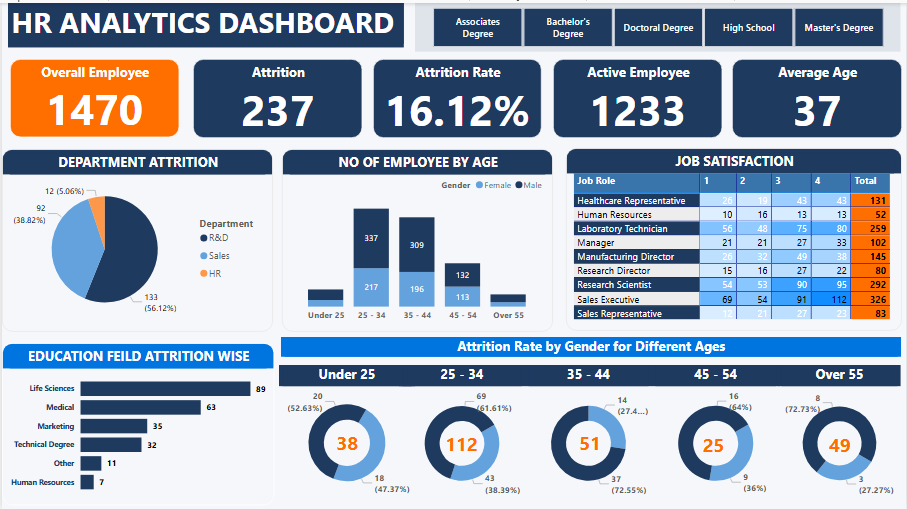

Layout of this report page (visuals, bound fields, positions):
{"tool":"powerbi","page":{"name":"Page 1","canvas":[1280,720],"ordinal":0},"visuals":[{"type":"donutChart","title":"Under 25","fields":{"Y":["Sum(HR data.Attrition Count)"],"Category":["HR data.Gender"],"Series":["HR data.CF_age band"]},"box":[392.5,513.4,192.5,195.5],"z":0},{"type":"card","fields":{"Values":["Sum(HR data.Attrition Count)"]},"box":[453.7,596.7,71.6,55.2],"z":1000},{"type":"card","title":"Overall Employee","fields":{"Values":["Sum(HR data.Employee Count)"]},"box":[11.3,79.8,239.5,110.6],"z":2000},{"type":"card","title":"Attrition","fields":{"Values":["Sum(HR data.Attrition Count)"]},"box":[270.1,79.1,240.3,111.9],"z":3000},{"type":"card","title":"Attrition Rate","fields":{"Values":["HR data.Attrition rate"]},"box":[525.4,79.1,238.8,111.9],"z":4000},{"type":"card","title":"Active Employee","fields":{"Values":["HR data.Active Employee"]},"box":[780.6,79.1,240.3,111.9],"z":5000},{"type":"card","title":"Average Age","fields":{"Values":["Avg(HR data.Age)"]},"box":[1034.6,79.4,240.9,112],"z":6000},{"type":"pieChart","title":"DEPARTMENT ATTRITION","fields":{"Category":["HR data.Department"],"Y":["Sum(HR data.Attrition Count)"]},"box":[0,206.4,384.1,259.4],"z":7000},{"type":"columnChart","title":"NO OF EMPLOYEE BY AGE","fields":{"Category":["HR data.CF_age band"],"Y":["Sum(HR data.Employee Count)"],"Series":["HR data.Gender"]},"box":[396.9,206.9,384.1,259.4],"z":8000},{"type":"pivotTable","title":"JOB SATISFACTION","fields":{"Rows":["HR data.Job Role"],"Columns":["HR data.Job Satisfaction"],"Values":["Sum(HR data.Employee Count)"]},"box":[799.4,205.5,476.2,259.4],"z":9000},{"type":"barChart","title":"EDUCATION FEILD ATTRITION WISE","fields":{"Category":["HR data.Education Field"],"Y":["Sum(HR data.Attrition Count)"]},"box":[0,481.9,385.5,229.6],"z":10000},{"type":"textbox","title":"Attrition Rate by Gender for Different Ages","box":[395.5,473.1,879.1,28.4],"z":11000},{"type":"donutChart","title":"25 - 34","fields":{"Y":["Sum(HR data.Attrition Count)"],"Category":["HR data.Gender"],"Series":["HR data.CF_age band"]},"box":[562.7,513.3,178.6,197],"z":12000},{"type":"donutChart","title":"35 - 44","fields":{"Y":["Sum(HR data.Attrition Count)"],"Category":["HR data.Gender"],"Series":["HR data.CF_age band"]},"box":[741.3,513.3,180,197],"z":13000},{"type":"donutChart","title":"45 - 54","fields":{"Y":["Sum(HR data.Attrition Count)"],"Category":["HR data.Gender"],"Series":["HR data.CF_age band"]},"box":[920.9,513.3,180.6,197],"z":14000},{"type":"donutChart","title":"Over 55","fields":{"Y":["Sum(HR data.Attrition Count)","select"],"Category":["HR data.Gender"],"Series":["HR data.CF_age band"]},"box":[1099.8,513.3,174.3,197],"z":15000},{"type":"card","fields":{"Values":["Sum(HR data.Attrition Count)"]},"box":[614.8,597.5,72.2,53.8],"z":16000},{"type":"card","fields":{"Values":["Sum(HR data.Attrition Count)"]},"box":[796,597.4,74,54],"z":17000},{"type":"card","fields":{"Values":["Sum(HR data.Attrition Count)"]},"box":[970.9,599.5,75.1,53.9],"z":18000},{"type":"card","fields":{"Values":["Sum(HR data.Attrition Count)"]},"box":[1150.7,600,73.1,53.7],"z":19000},{"type":"textbox","title":"HR ANALYTICS DASHBOARD","box":[9,0,561.2,62.7],"z":20000},{"type":"slicer","fields":{"Values":["HR data.Education"]},"box":[585.1,0,688.1,68.7],"z":21000}]}

Visuals, with their boxes in screenshot pixels (x1, y1, x2, y2), scaled from the page's 1280x720 canvas onto the 907x509 screenshot:
"Under 25" donutChart: left=278, top=363, right=415, bottom=501
card - Sum(HR data.Attrition Count): left=321, top=422, right=372, bottom=461
"Overall Employee" card: left=8, top=56, right=178, bottom=135
"Attrition" card: left=191, top=56, right=362, bottom=135
"Attrition Rate" card: left=372, top=56, right=542, bottom=135
"Active Employee" card: left=553, top=56, right=723, bottom=135
"Average Age" card: left=733, top=56, right=904, bottom=135
"DEPARTMENT ATTRITION" pieChart: left=0, top=146, right=272, bottom=329
"NO OF EMPLOYEE BY AGE" columnChart: left=281, top=146, right=553, bottom=330
"JOB SATISFACTION" pivotTable: left=566, top=145, right=904, bottom=329
"EDUCATION FEILD ATTRITION WISE" barChart: left=0, top=341, right=273, bottom=503
"Attrition Rate by Gender for Different Ages" textbox: left=280, top=334, right=903, bottom=355
"25 - 34" donutChart: left=399, top=363, right=525, bottom=502
"35 - 44" donutChart: left=525, top=363, right=653, bottom=502
"45 - 54" donutChart: left=653, top=363, right=781, bottom=502
"Over 55" donutChart: left=779, top=363, right=903, bottom=502
card - Sum(HR data.Attrition Count): left=436, top=422, right=487, bottom=460
card - Sum(HR data.Attrition Count): left=564, top=422, right=616, bottom=461
card - Sum(HR data.Attrition Count): left=688, top=424, right=741, bottom=462
card - Sum(HR data.Attrition Count): left=815, top=424, right=867, bottom=462
"HR ANALYTICS DASHBOARD" textbox: left=6, top=0, right=404, bottom=44
slicer - HR data.Education: left=415, top=0, right=902, bottom=49
